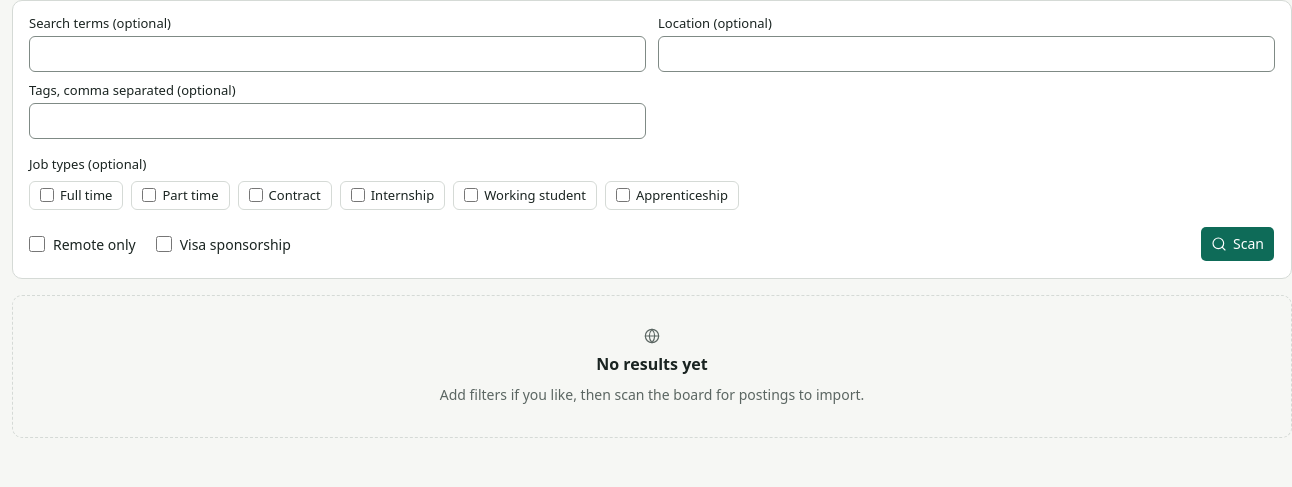
Test: ArbeitnowPage results › shows the rows with the joined subtitle, excerpt and notice
Click the button with test id "arbeitnowScanButton" at (1238,244), box [1200,226,1275,262]
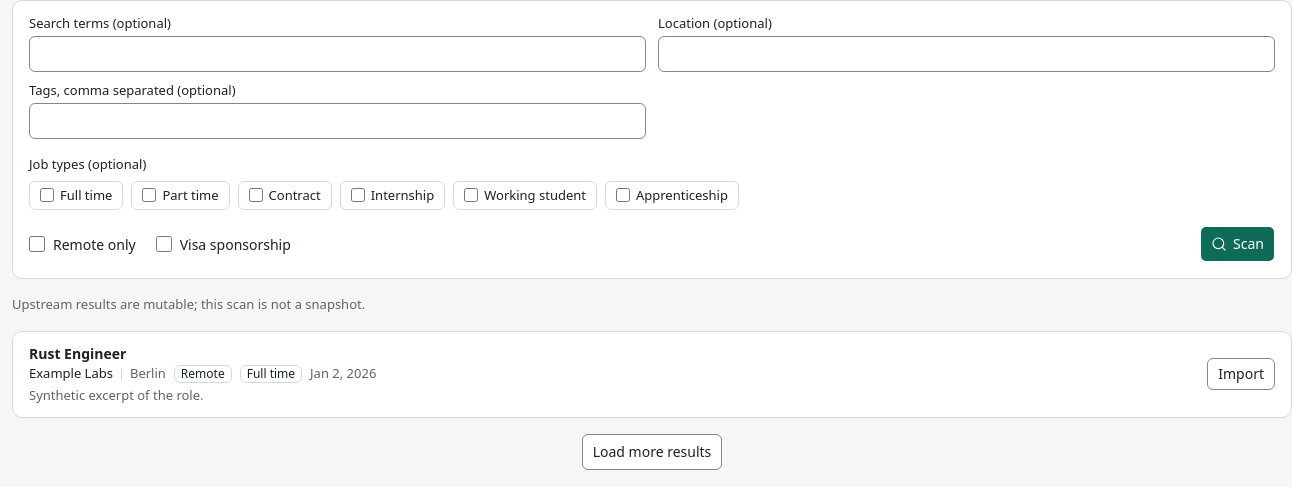
Result: the text "Rust Engineer" is shown at [29,344,126,362]
Result: the text "Example Labs" is shown at [29,365,113,383]
Result: the text "Berlin" is shown at [130,365,166,383]
